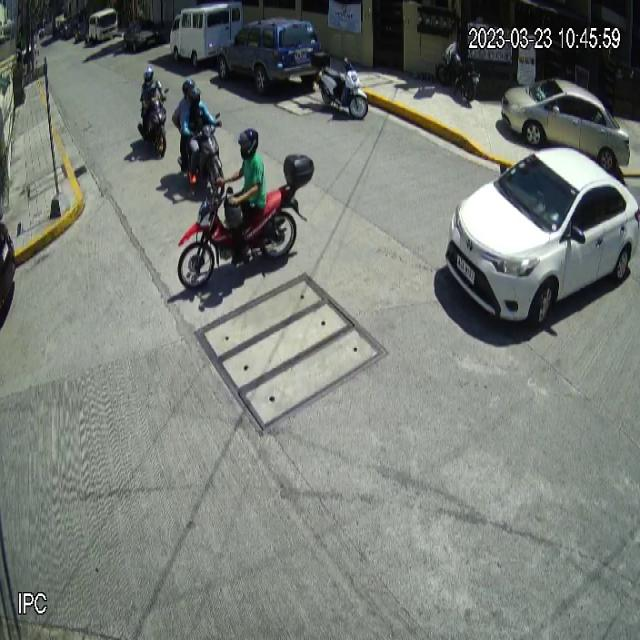Car: (445, 148, 640, 327), (500, 78, 630, 174), (218, 17, 324, 99)
Motorcycle: (177, 152, 315, 289), (312, 48, 369, 120), (187, 111, 226, 198), (137, 87, 169, 158)
Van: (170, 1, 245, 67)
